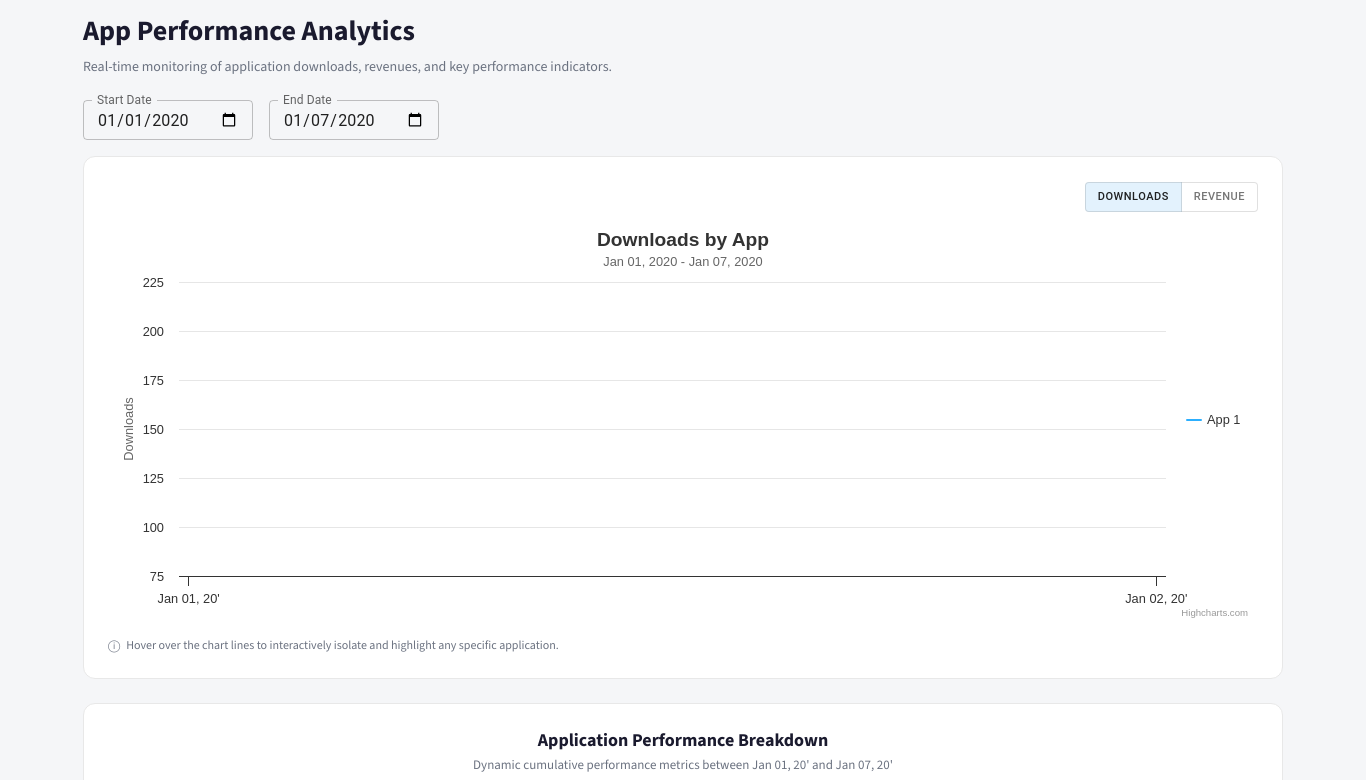
Test: Dashboard › shows validation message when start date is after end date
Type "2020-01-10" into the date field labelled "Start Date". click: [168, 120]
box: [83,100,253,140]
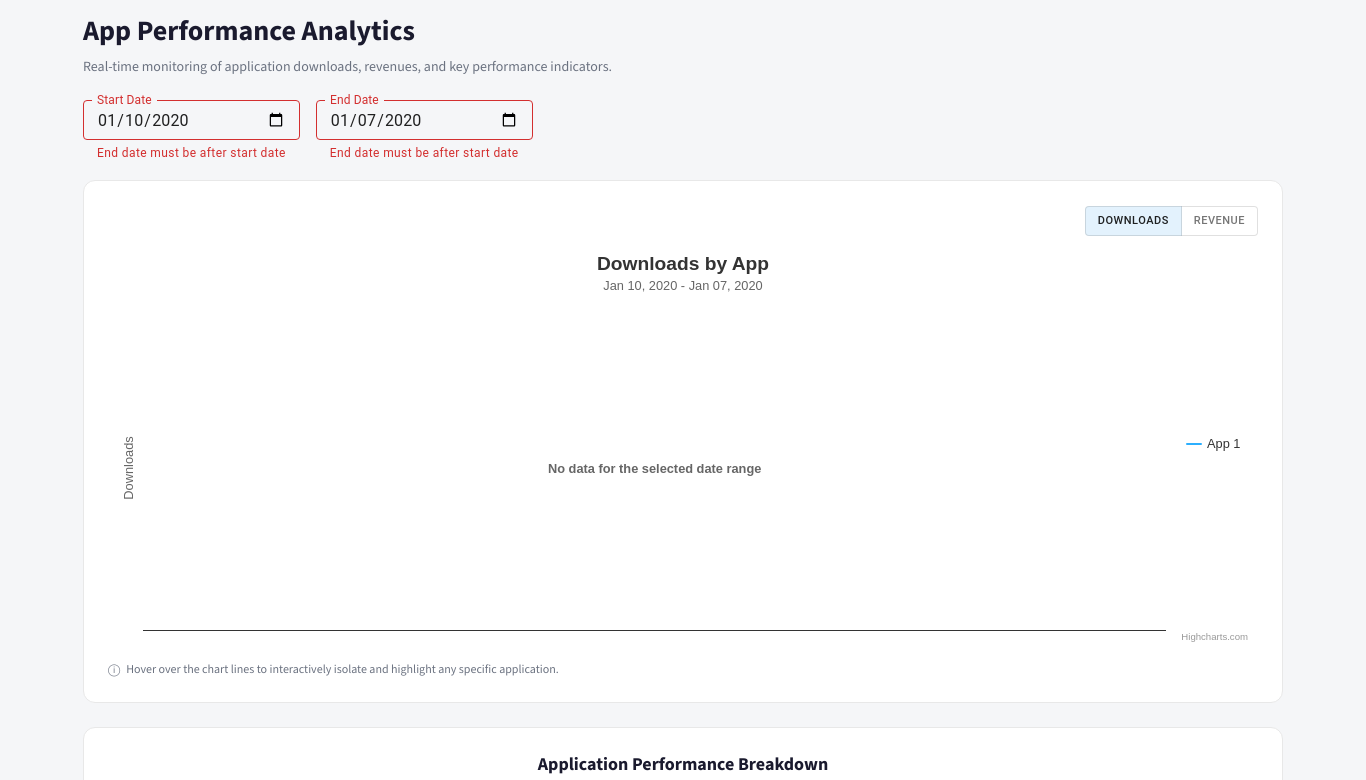
Expected: the text "End date must be after start date" is shown 2 times, [97,144,286,164]; [330,144,519,164]
